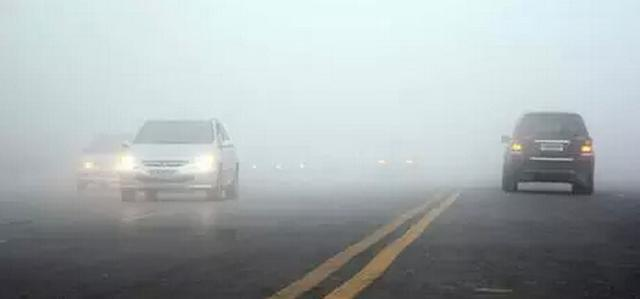car: (118, 118, 241, 203), (499, 110, 596, 196), (73, 130, 148, 196), (274, 147, 340, 178), (373, 144, 421, 175)
